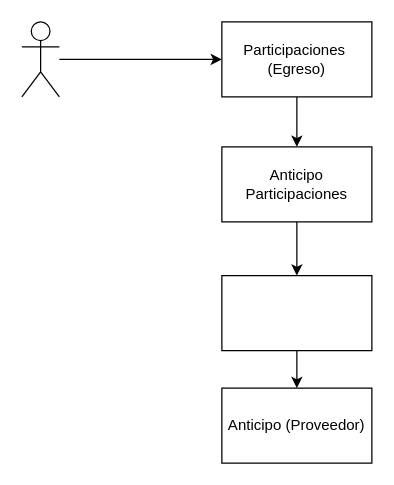
Some shapes in this 394 by 485 pixel diagram are drawn without their labels. The centre of each missing label's shape, as x and y in pixels:
"Actor" belongs at point 40,59.
"Orden de pago" belongs at point 296,312.
